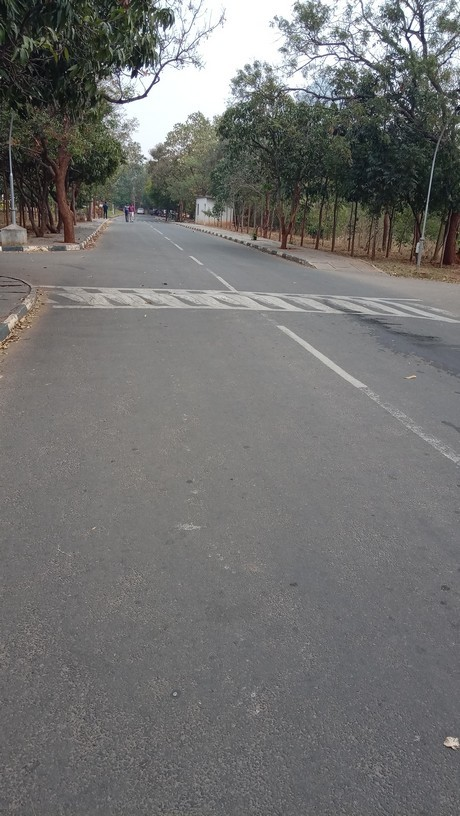bump: (28, 284, 460, 319)
